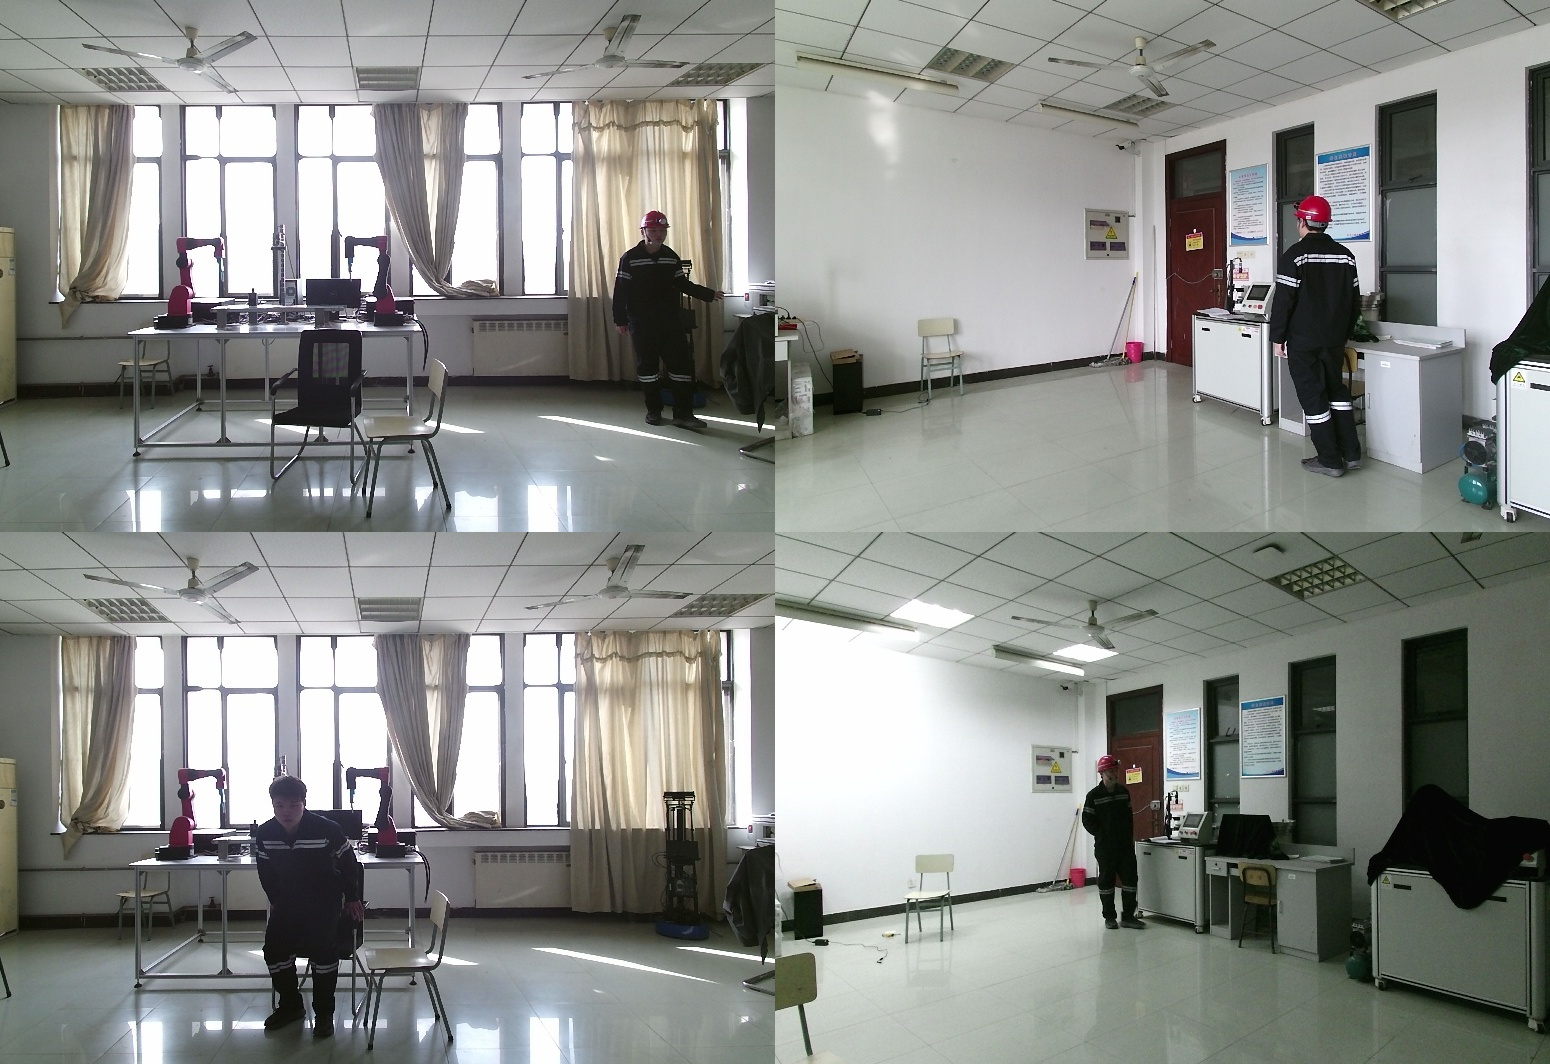person: (250, 780, 367, 1036), (1273, 194, 1371, 474), (613, 213, 716, 426), (1080, 758, 1140, 934)
